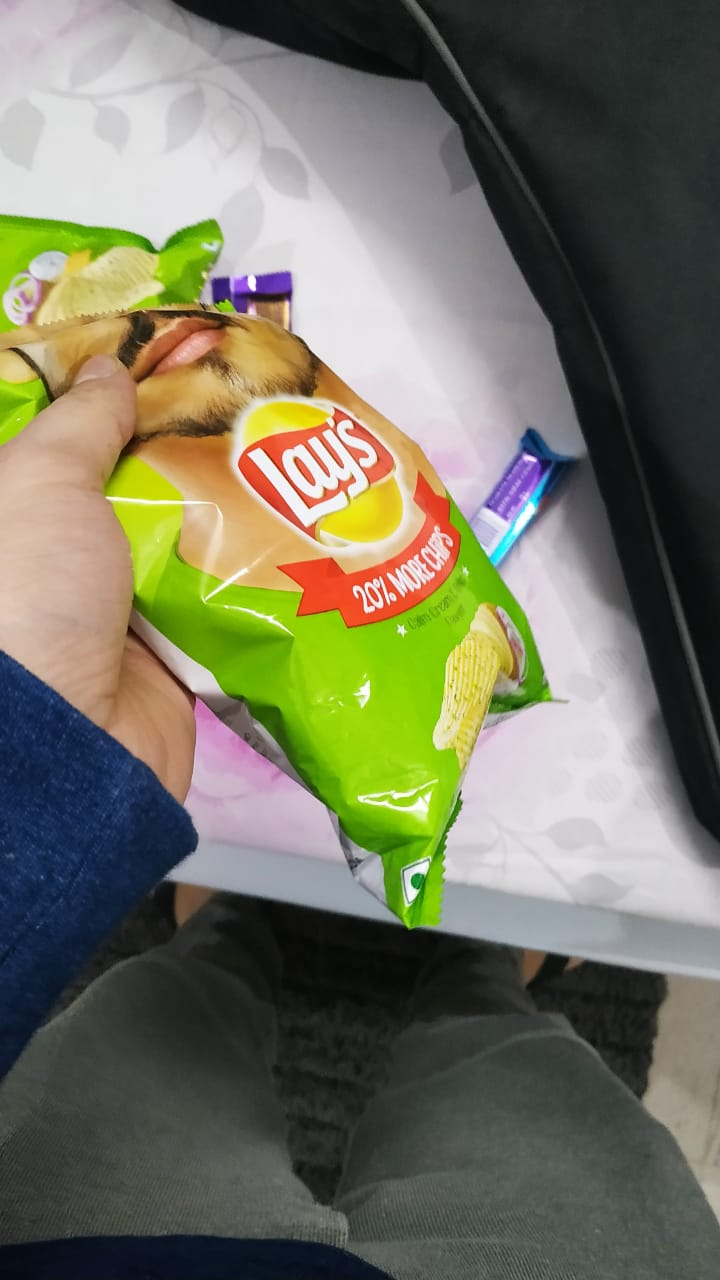lays chips: (1, 304, 552, 990)
